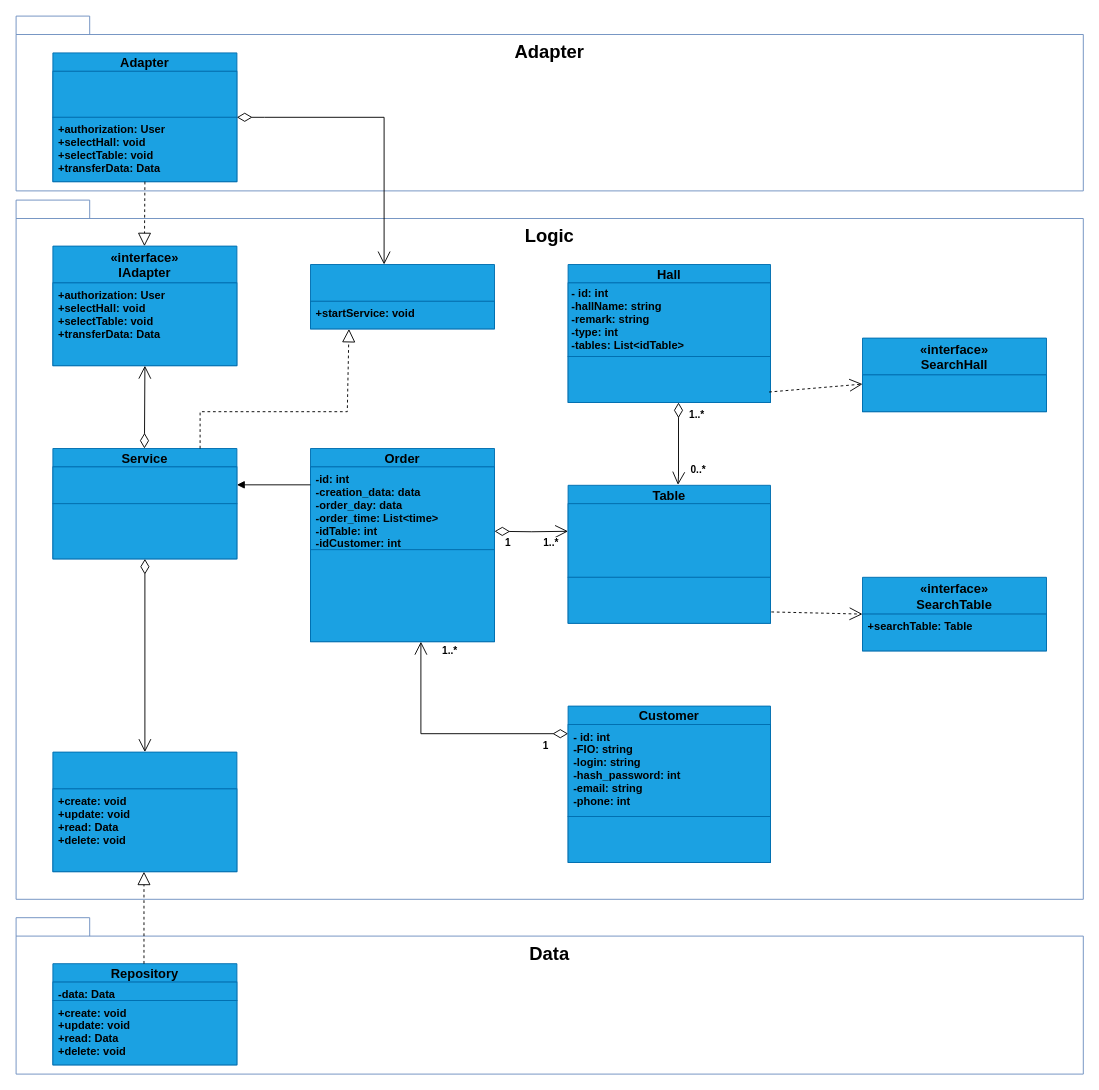
Some shapes in this 1099 by 1090 pixel diagram are drawn without their labels. Here are the shapes that lost their labels. From the top down, the box of each, then its label:
(52, 70, 237, 117): -user: User -data: Data -execution: IExecution
(310, 264, 494, 329): «interface» IExecution
(567, 356, 770, 402): +setHall: void +getHall: Hall +searchHall: Hall
(862, 374, 1046, 412): +searchHall: Hall
(52, 466, 237, 504): +adapter: IAdapter +repository: IRepositiry
(52, 503, 237, 559): +createIAdapter: void +createIRepository: void +startService: void
(567, 503, 770, 577): - id: int -places: int -type: string -remark: string -idHall: int
(310, 549, 494, 642): +createOrder: void
(567, 576, 770, 623): +setTable: void +getTable: Table +searchTable: Table
(52, 751, 237, 872): «interface» IRepository
(567, 816, 770, 862): +setCustomer: void +getCustomer: Customer
